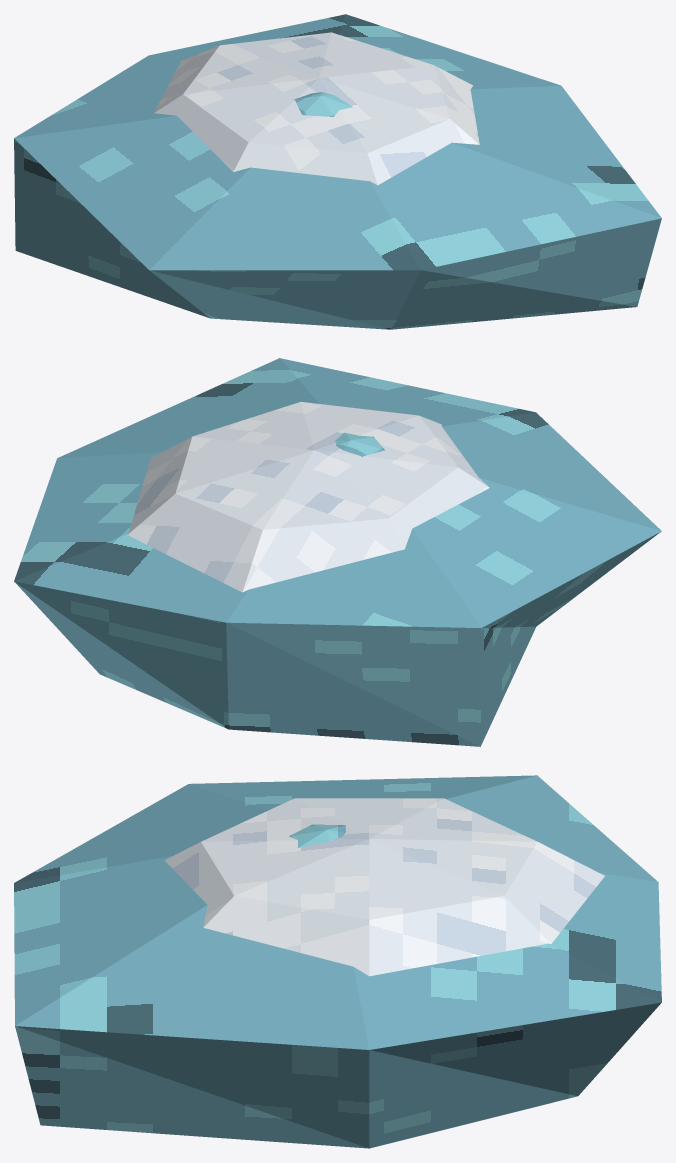
File: tempano.glb
3 renders of one model, top to bottom at view 1: azimuth 30°, elevation 25°; view 2: azimuth 150°, elevation 25°; view 3: azimuth 270°, elevation 25°, orthographic. The views are drawn at different scales.
Parts seen in each view (by area): view 1: hielo, nieve; view 2: hielo, nieve; view 3: hielo, nieve.
Part boxes in pixels (x1,y1,x2,y2): hielo: [14, 14, 661, 329]; nieve: [154, 32, 479, 185]; hielo: [14, 358, 661, 746]; nieve: [128, 402, 489, 592]; hielo: [14, 775, 661, 1148]; nieve: [164, 798, 604, 976].
Size of the model in its own units: 3 by 1 by 3.
1 material, 1 textured.
